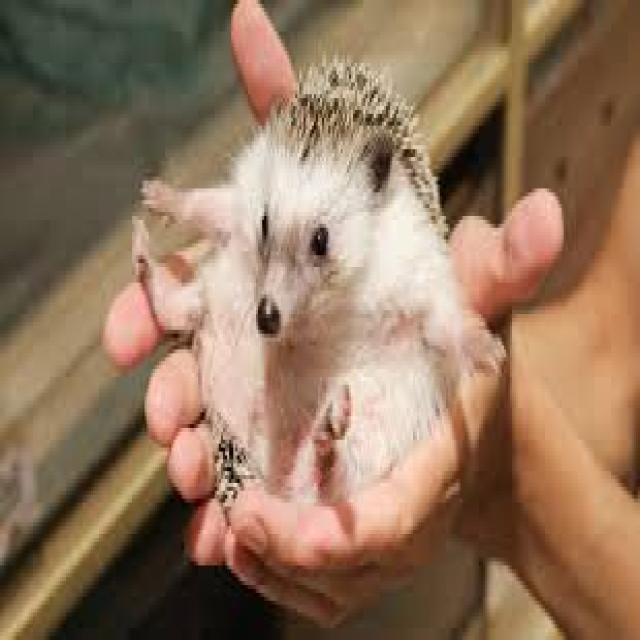Hedgehog: (139, 56, 501, 509)
